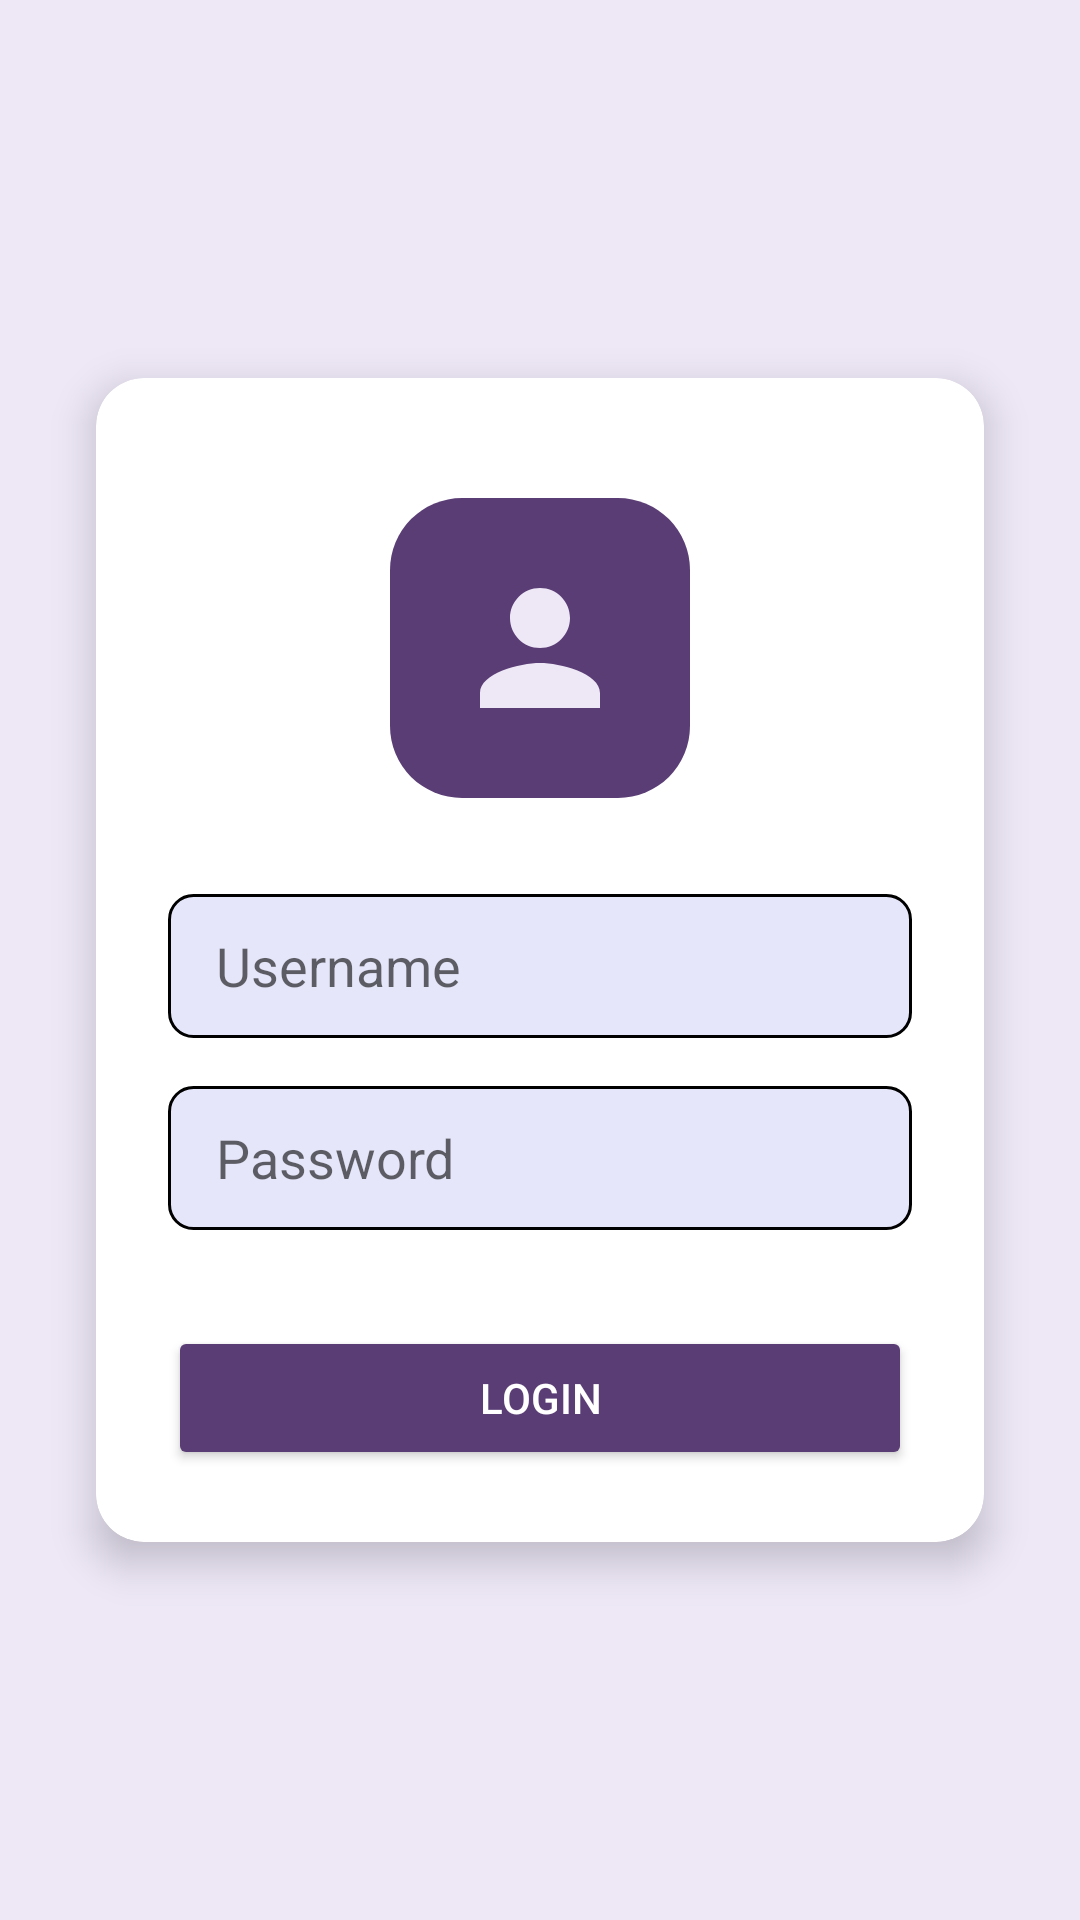

Screen size 1080×1920. Icon name, then its box in pixels as Rect(x1, y1, x2, y2):
Profile icon: Rect(390, 498, 690, 798)
